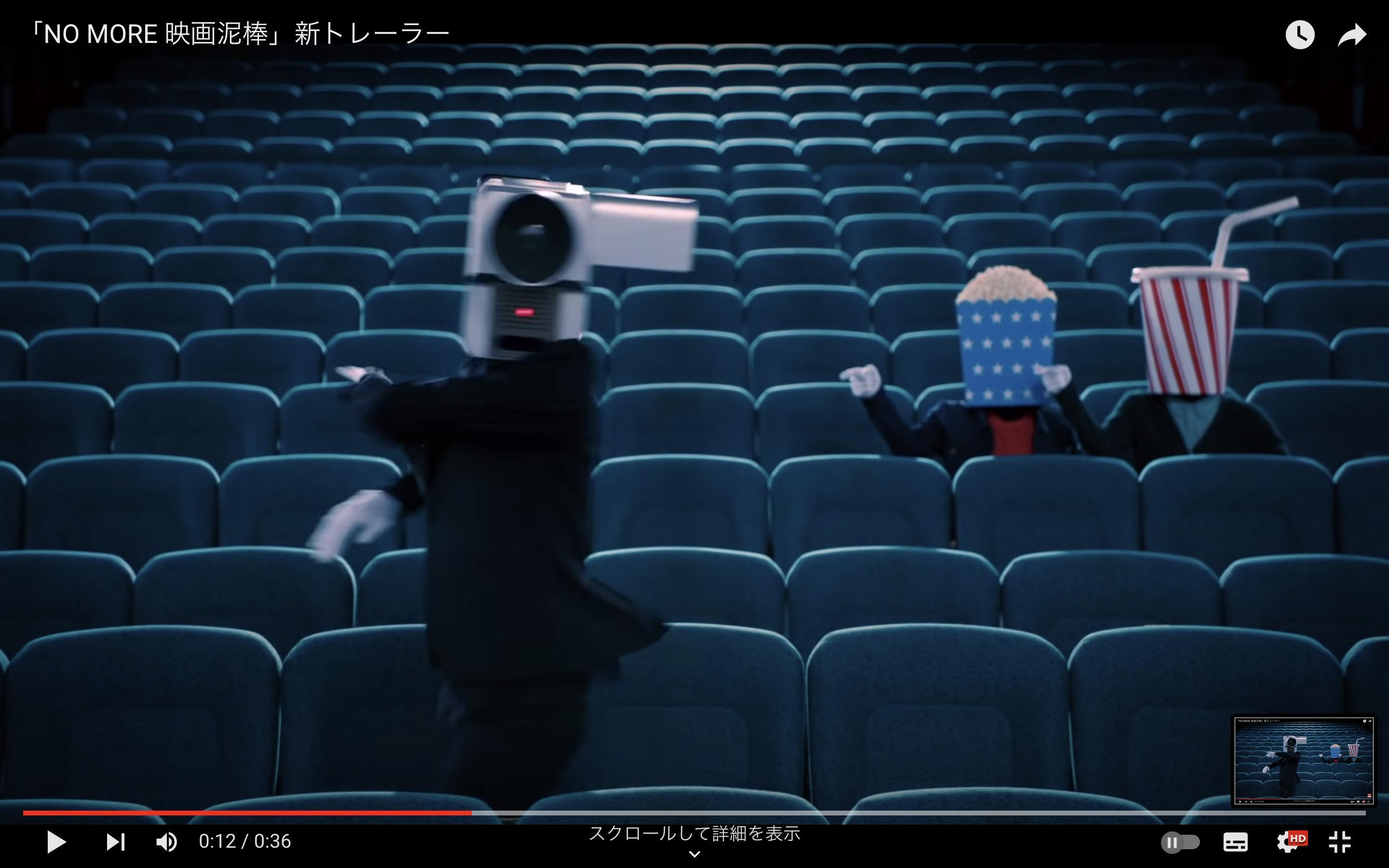no more kid: (454, 176, 699, 360)
